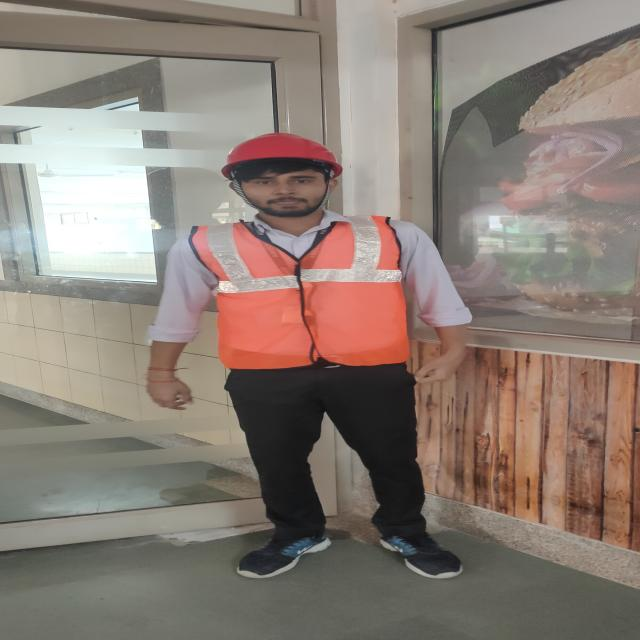safe: (189, 133, 471, 579)
